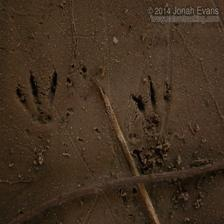rat: (11, 67, 74, 141), (123, 75, 177, 145)
